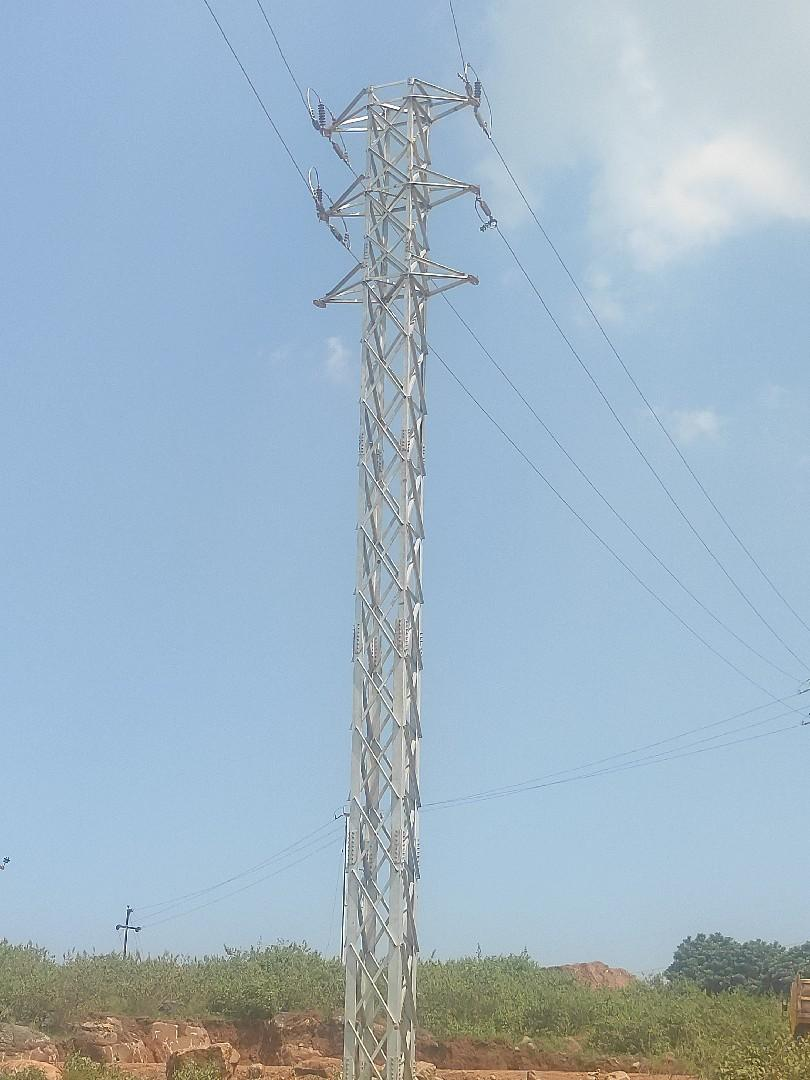Microwave Antenna: (305, 73, 496, 1065)
